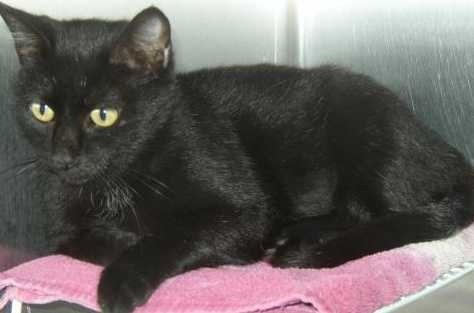Cat: (0, 2, 400, 312)
